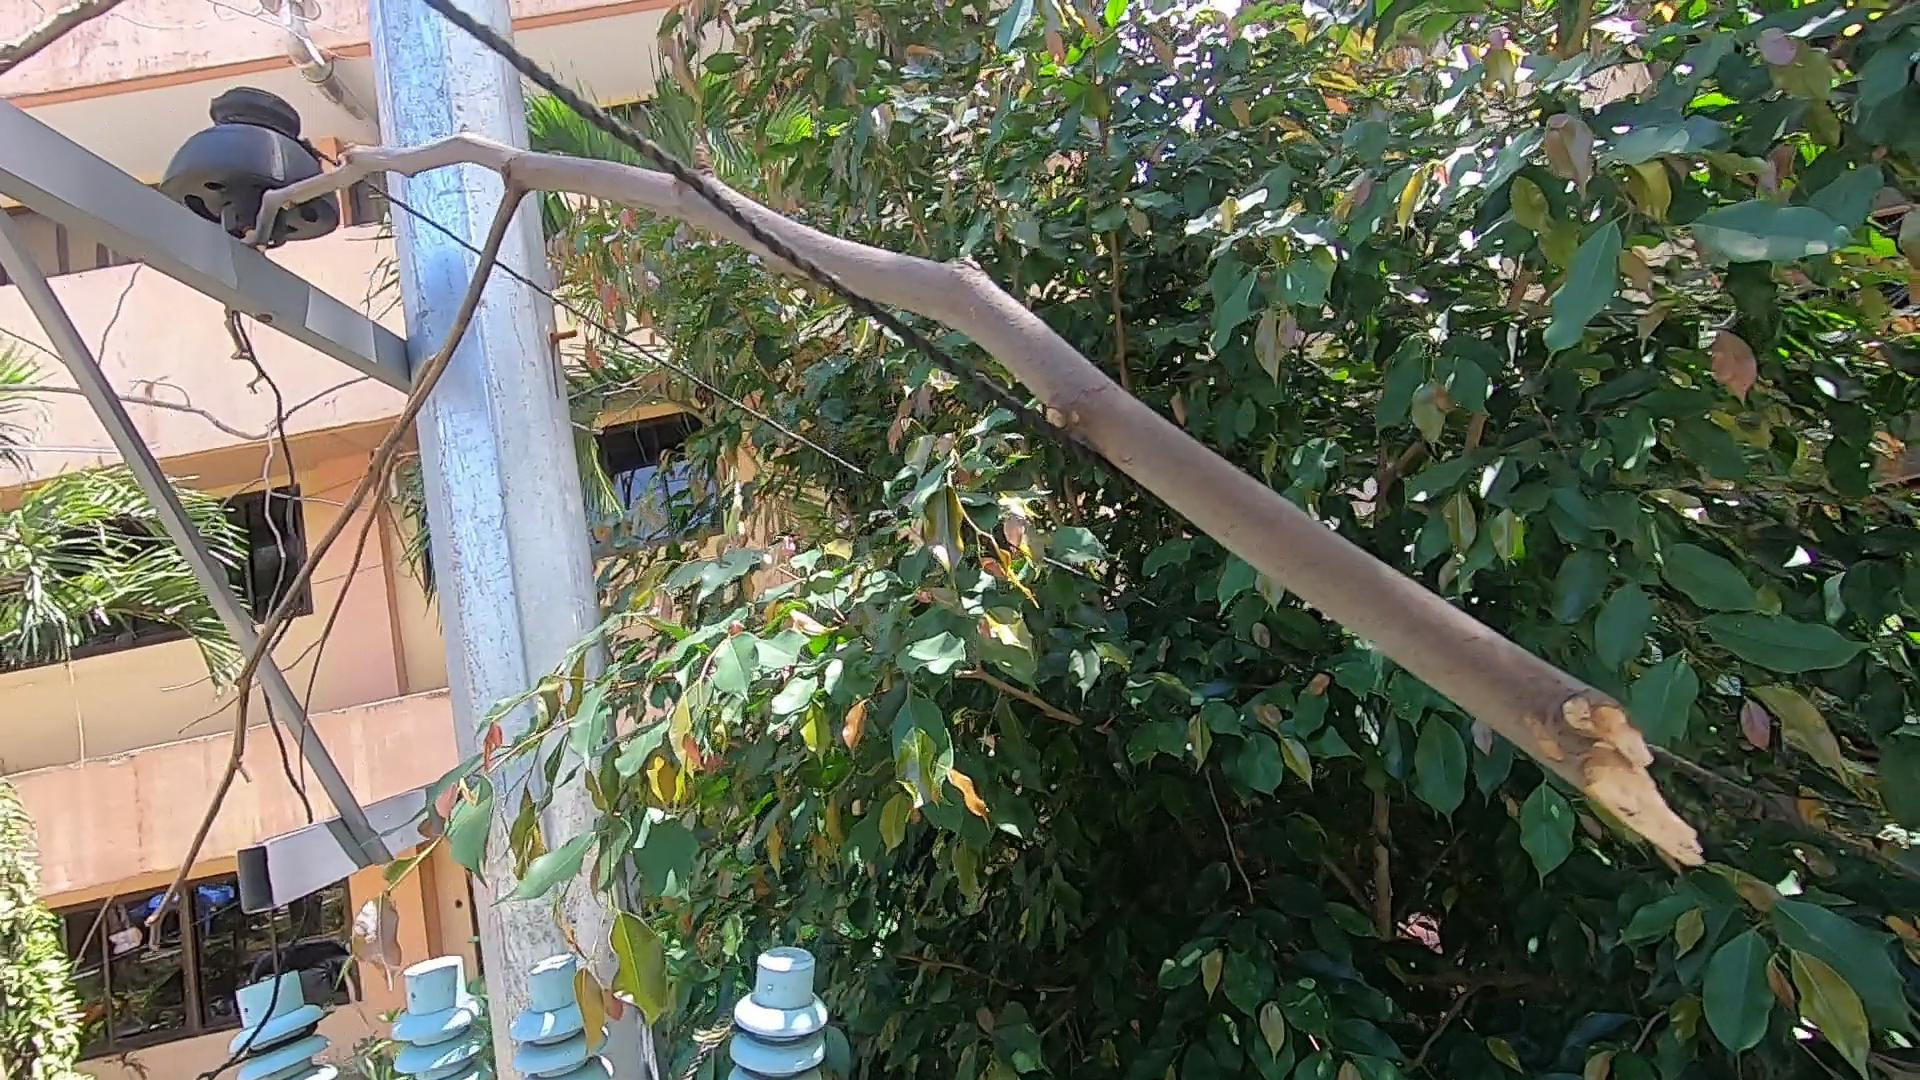branch with leaves: (404, 713, 733, 1063)
tree branch: (87, 120, 1726, 878)
